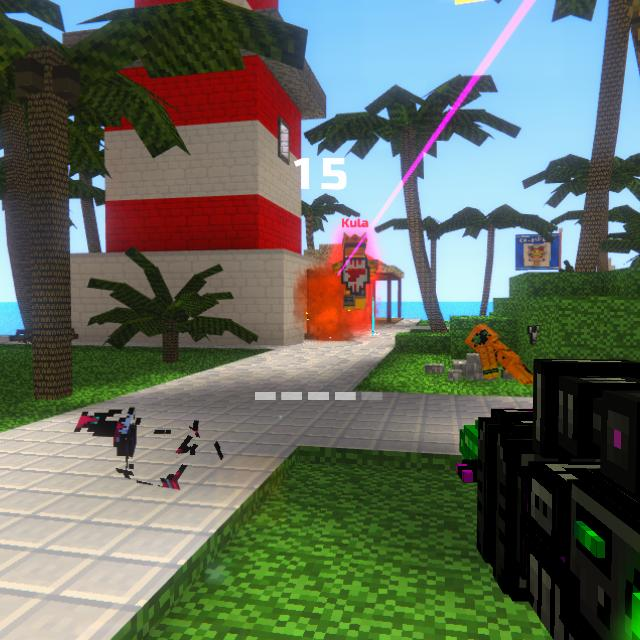Enemy: (333, 236, 380, 312)
